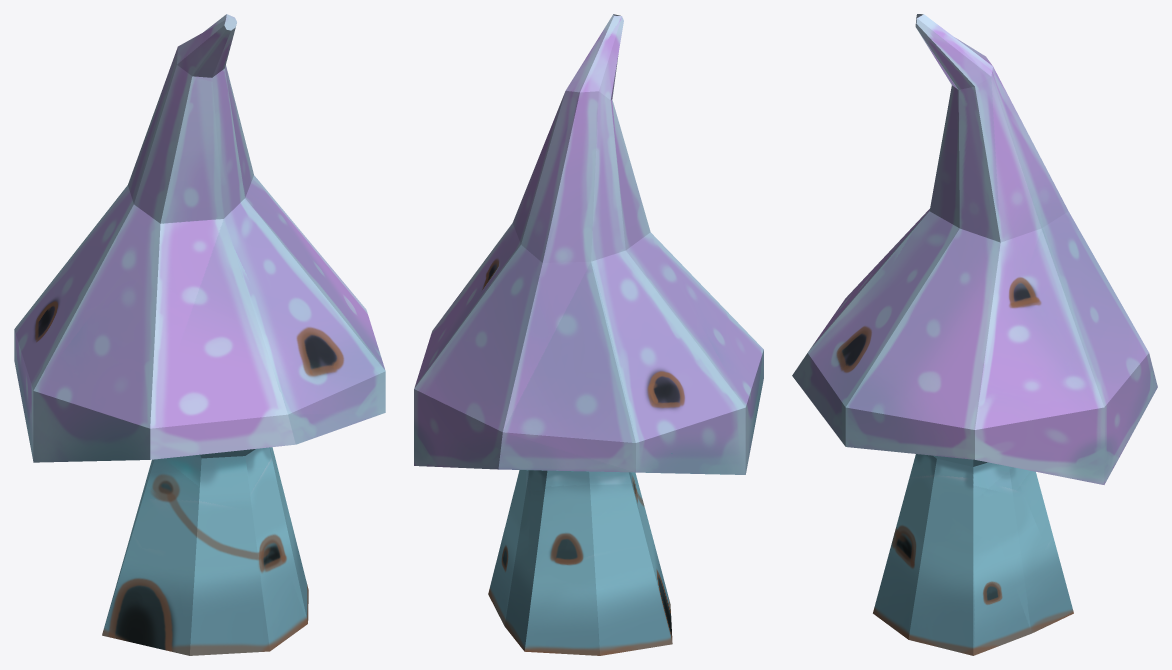
File: Mushroom House 2.fbx
The picture shows the model from 3 angles, left to right: view 1: azimuth 30°, elevation 25°; view 2: azimuth 150°, elevation 25°; view 3: azimuth 270°, elevation 25°; orthographic projection. The views are drawn at different scales.
Parts seen in each view (by area): view 1: Cylinder; view 2: Cylinder; view 3: Cylinder.
Boxes of the visible parts, left/top/right/bottom form: Cylinder: left=14, top=14, right=385, bottom=655; Cylinder: left=414, top=14, right=763, bottom=655; Cylinder: left=792, top=14, right=1157, bottom=655.
Size of the model in its own units: 199 by 355 by 199.
